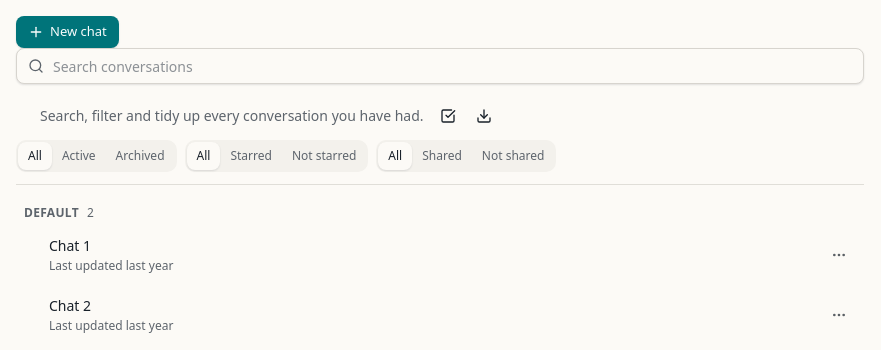
Scenario: RecentPage bulk actions › keeps stop-sharing disabled when no selected conversation is shared
Expected: the text "Chat 1" is shown, [49, 236, 91, 256]
Click the 2nd checkbox labelled "Chat 1 Last updated last year". click: {"x": 440, "y": 255}
box: [16, 225, 864, 285]
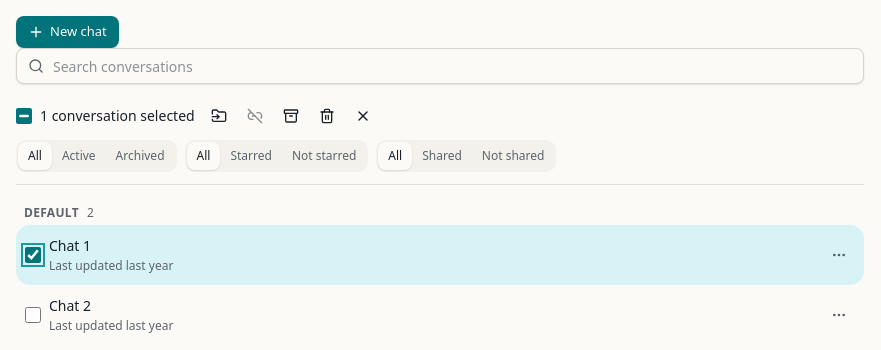
Expected: the button named "Stop sharing" is disabled, [239, 100, 271, 132]
